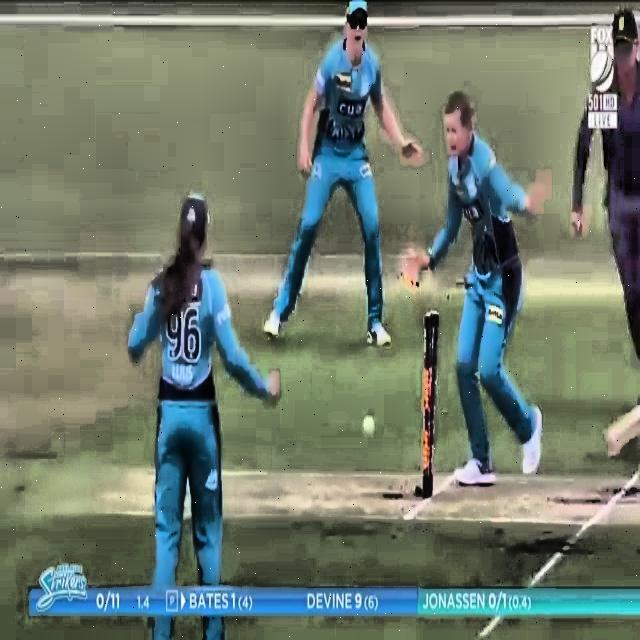Ball: (353, 405, 382, 452)
Dis_Wicket: (399, 270, 451, 504)
Pitch_Line: (477, 612, 504, 640)
